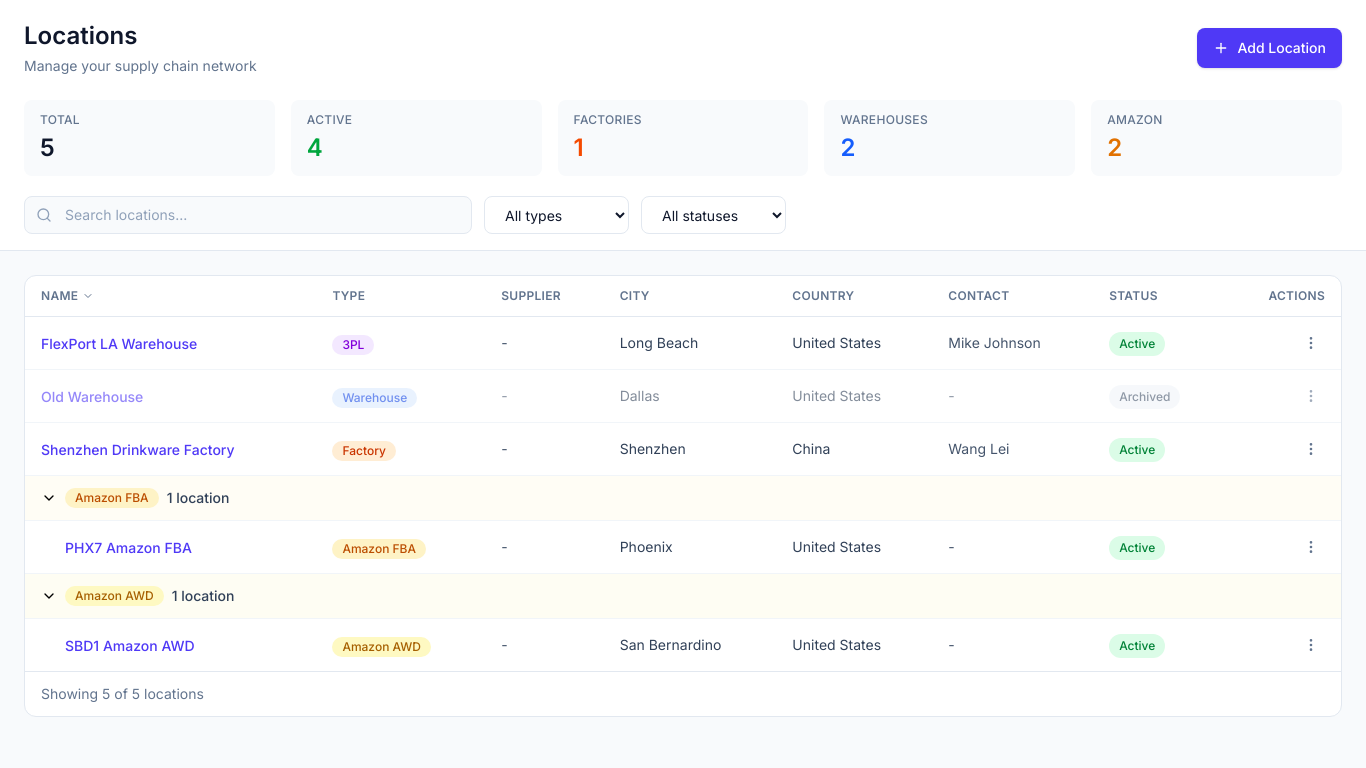
Locations - Unarchive Location › shows Unarchive option for archived locations
The width and height of the screenshot is (1366, 768).
What coordinates should you click on to do the following:
click the button without text in the row of "Dallas"
I would click on:
 (1311, 396)
Its box is [1297, 382, 1325, 410].
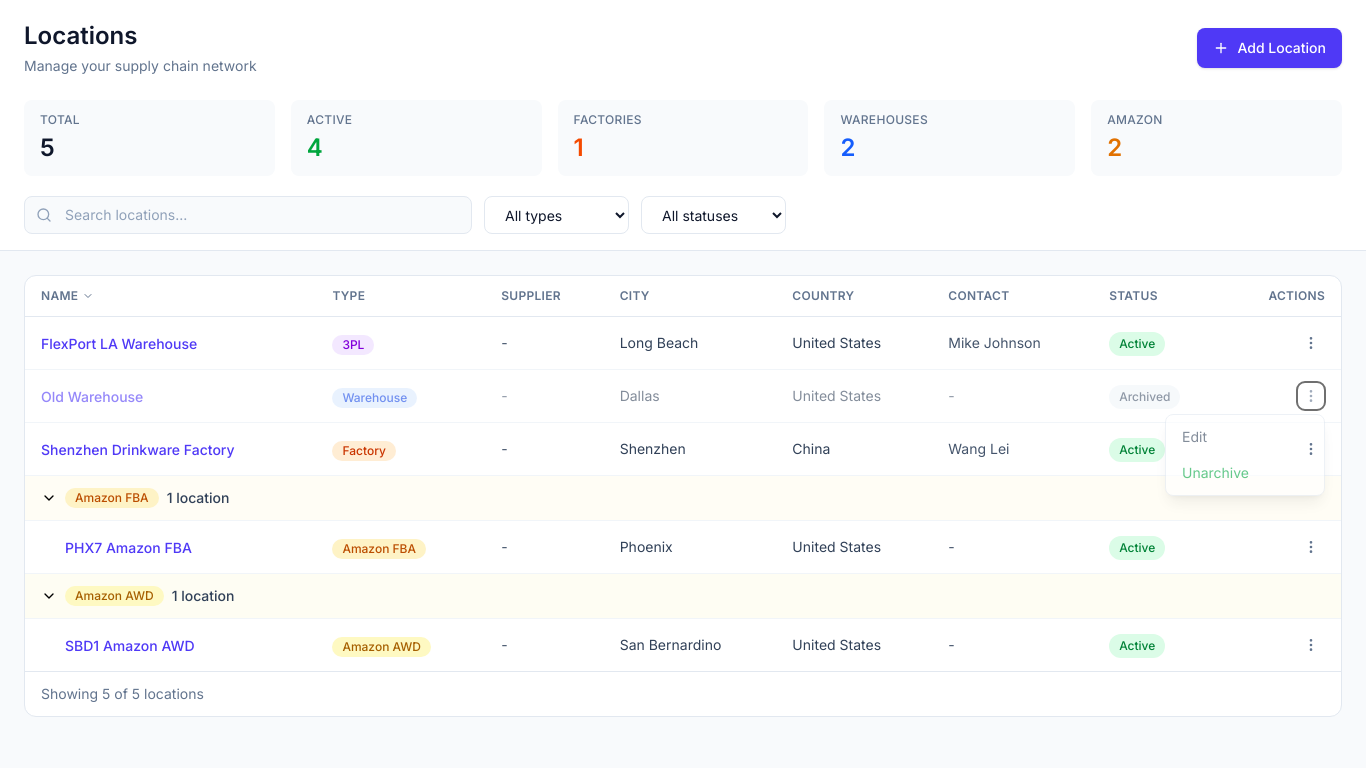
Check: the button "Unarchive" is shown, box [1166, 455, 1324, 491]
